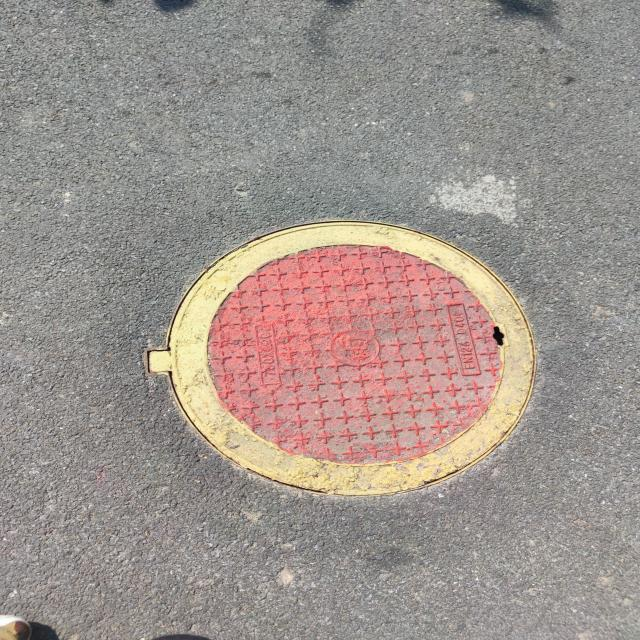Good: (136, 218, 541, 501)
